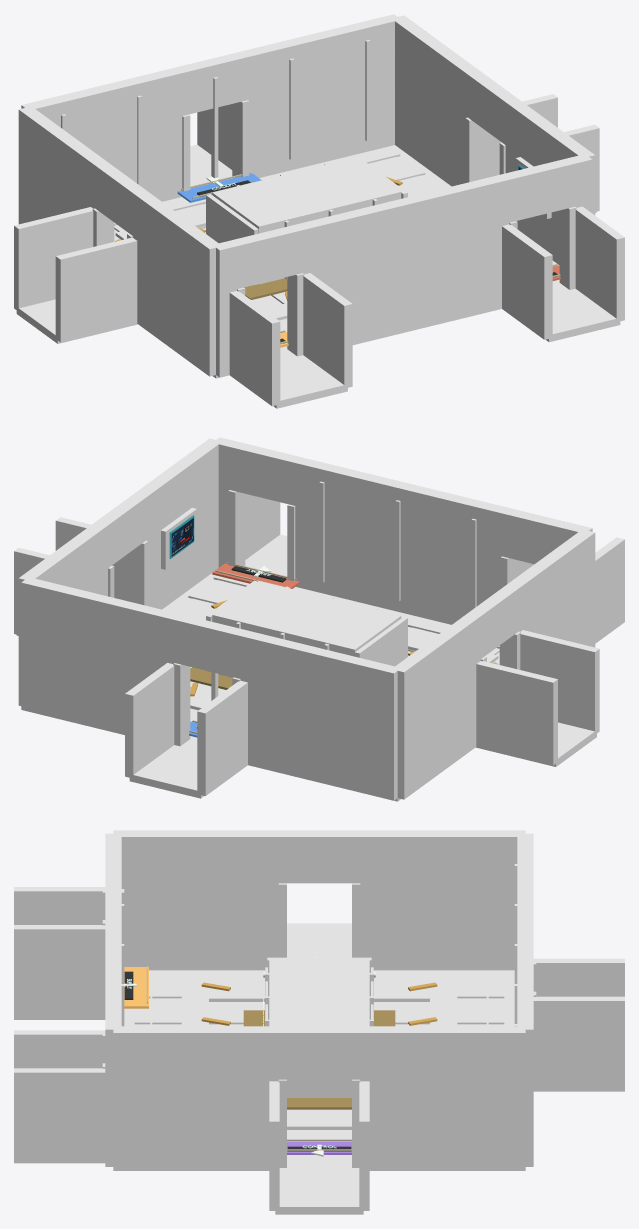
Rendered from cargo_hold_shell.glb.
The picture shows the model from 3 angles, top to bottom: view 1: azimuth 30°, elevation 25°; view 2: azimuth 150°, elevation 25°; view 3: azimuth 270°, elevation 25°; orthographic projection. The views are drawn at different scales.
Visible parts, largest first — view 1: CH-09 CH-08 south end supply and armory sealed wall segment  (×2), CH-05 north 12 oclock cockpit sealed final wall segment, CH-06 west 9 oclock engine room lower sealed wall, CH-05 north 12 oclock cockpit sealed wall segment 1, CH-07 east 3 oclock control room upper sealed wall, CH-03 single visible cargo container main body, CH-06 engine 9 oclock corridor side wall -0.95, CH-06 west 9 oclock engine room upper sealed wall, CH-07 east 3 oclock control room lower sealed wall, CH-06 engine 9 oclock corridor side wall +0.95, CH-09 supply 7 oclock south end corridor side wall -0.95, CH-08 armory 5 oclock south end corridor side wall -0.95 (+27 smaller); view 2: CH-09 CH-08 south end supply and armory sealed wall segment , CH-05 north 12 oclock cockpit sealed wall segment 1, CH-05 north 12 oclock cockpit sealed final wall segment, CH-06 west 9 oclock engine room upper sealed wall, CH-07 east 3 oclock control room lower sealed wall, CH-03 single visible cargo container main body, CH-06 engine 9 oclock corridor side wall +0.95, CH-06 west 9 oclock engine room lower sealed wall, CH-06 engine 9 oclock corridor side wall -0.95, CH-09 CH-08 south end supply and armory armory 5 oclock door (×3), CH-05 cockpit 12 oclock corridor side wall -0.95, CH-05 cockpit 12 oclock corridor side wall +0.95 (+26 smaller); view 3: CH-07 east 3 oclock control room lower sealed wall, CH-07 east 3 oclock control room upper sealed wall, CH-06 west 9 oclock engine room upper sealed wall, CH-06 west 9 oclock engine room lower sealed wall, CH-05 cockpit 12 oclock corridor side wall +0.95, CH-09 supply 7 oclock south end corridor side wall +0.95, CH-08 armory 5 oclock south end corridor side wall +0.95, CH-03 single visible cargo container main body, CH-07 control 3 oclock corridor floor continuation, CH-07 east 3 oclock control room doorway upper header, CH-06 west 9 oclock engine room doorway upper header, CH-01 sealed cargo hold deck floor (+28 smaller).
Part boxes in pixels (x1,y1,x2,y2): CH-09 CH-08 south end supply and armory sealed wall segment  (×2): (213,173,512,377); CH-05 north 12 oclock cockpit sealed final wall segment: (237,14,400,177); CH-06 west 9 oclock engine room lower sealed wall: (131,188,221,376); CH-05 north 12 oclock cockpit sealed wall segment 1: (21,67,185,201); CH-07 east 3 oclock control room upper sealed wall: (392,15,482,186); CH-03 single visible cargo container main body: (212,158,401,284); CH-06 engine 9 oclock corridor side wall -0.95: (55,238,137,342); CH-06 west 9 oclock engine room upper sealed wall: (18,106,109,224); CH-07 east 3 oclock control room lower sealed wall: (503,97,595,264); CH-06 engine 9 oclock corridor side wall +0.95: (14,207,93,309); CH-09 supply 7 oclock south end corridor side wall -0.95: (229,291,280,406); CH-08 armory 5 oclock south end corridor side wall -0.95: (502,224,552,339); CH-09 CH-08 south end supply and armory sealed wall segment : (292,456,512,624); CH-05 north 12 oclock cockpit sealed wall segment 1: (237,630,400,800); CH-05 north 12 oclock cockpit sealed final wall segment: (21,577,185,734); CH-06 west 9 oclock engine room upper sealed wall: (393,612,482,799); CH-07 east 3 oclock control room lower sealed wall: (131,438,222,609); CH-03 single visible cargo container main body: (212,581,401,677); CH-06 engine 9 oclock corridor side wall +0.95: (476,661,557,765); CH-06 west 9 oclock engine room lower sealed wall: (504,531,595,647); CH-06 engine 9 oclock corridor side wall -0.95: (520,630,599,733); CH-09 CH-08 south end supply and armory armory 5 oclock door (×3): (228,442,298,581); CH-05 cockpit 12 oclock corridor side wall -0.95: (197,680,247,795); CH-05 cockpit 12 oclock corridor side wall +0.95: (125,663,174,777); CH-07 east 3 oclock control room lower sealed wall: (113,1026,282,1170); CH-07 east 3 oclock control room upper sealed wall: (356,1026,525,1170); CH-06 west 9 oclock engine room upper sealed wall: (356,830,525,970); CH-06 west 9 oclock engine room lower sealed wall: (113,830,282,970); CH-05 cockpit 12 oclock corridor side wall +0.95: (533,996,624,1090); CH-09 supply 7 oclock south end corridor side wall +0.95: (14,925,105,1018); CH-08 armory 5 oclock south end corridor side wall +0.95: (14,1068,105,1161); CH-03 single visible cargo container main body: (269,958,369,1026); CH-07 control 3 oclock corridor floor continuation: (275,1163,363,1214); CH-07 east 3 oclock control room doorway upper header: (282,1026,356,1079); CH-06 west 9 oclock engine room doorway upper header: (282,830,356,883); CH-01 sealed cargo hold deck floor: (113,970,525,1170).
Bounding box in the file's own units: 14.18 × 3.29 × 12.9.
27 materials, 1 textured.
